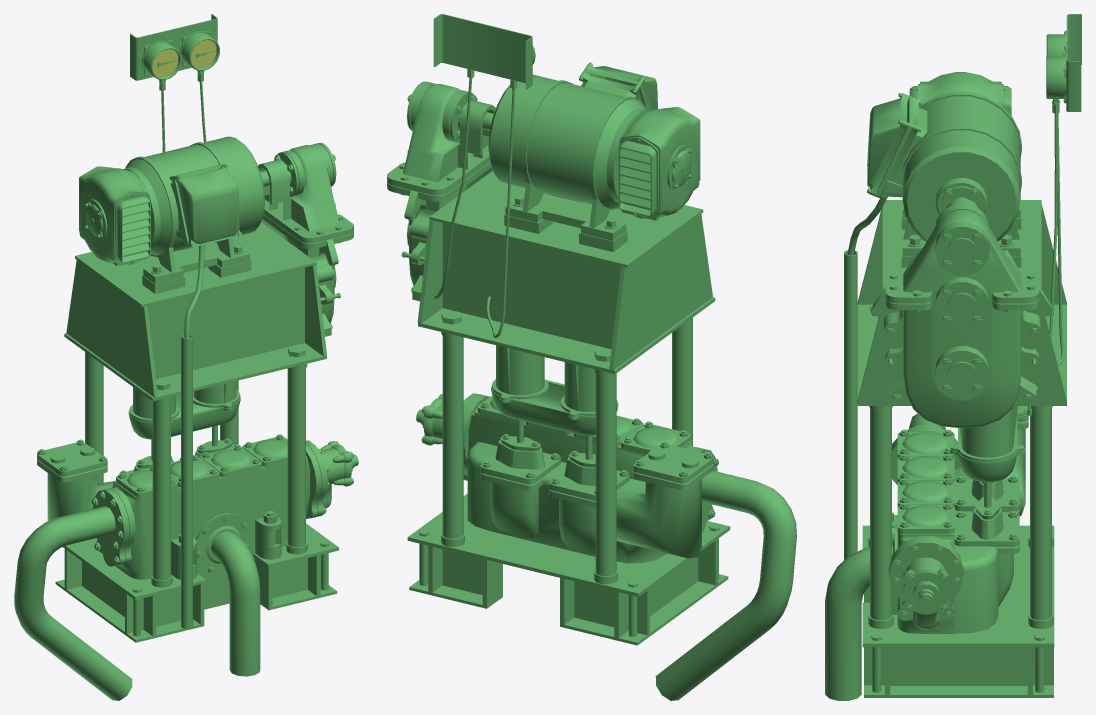
The model's file is Engine1.fbx.
3 views of the same model, side by side, from view 1: azimuth 30°, elevation 25°; view 2: azimuth 150°, elevation 25°; view 3: azimuth 270°, elevation 25° (orthographic). The views are drawn at different scales.
Parts seen in each view (by area): view 1: EnStuff.001; view 2: EnStuff.001; view 3: EnStuff.001.
Boxes of the visible parts, left/top/right/bottom form: EnStuff.001: left=14, top=14, right=358, bottom=700; EnStuff.001: left=387, top=14, right=796, bottom=700; EnStuff.001: left=825, top=14, right=1081, bottom=700.
Bounding box in the file's own units: 120 × 207 × 67.26.
